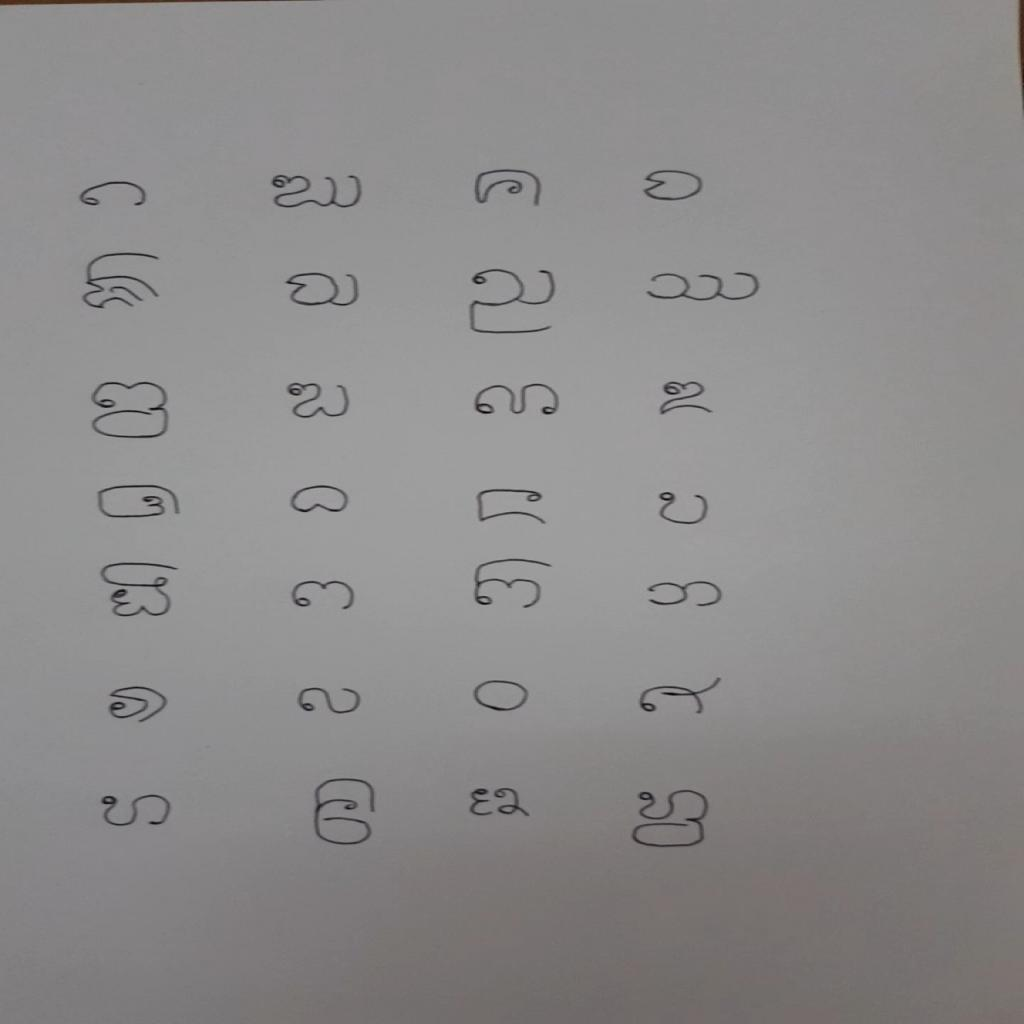LN003: (73, 177, 159, 212)
LN004: (263, 170, 373, 214)
LN005: (467, 164, 552, 211)
LN006: (636, 166, 711, 207)
LN009: (78, 249, 172, 316)
LN010: (277, 268, 369, 312)
LN011: (462, 264, 566, 340)
LN012: (639, 268, 771, 307)
LN015: (85, 378, 180, 444)
LN016: (278, 378, 360, 424)
LN017: (467, 380, 570, 422)
LN018: (652, 376, 720, 422)
LN021: (90, 480, 192, 524)
LN022: (284, 481, 359, 519)
LN023: (469, 484, 558, 531)
LN024: (651, 487, 721, 531)
LN027: (95, 558, 190, 624)
LN028: (283, 577, 366, 617)
LN029: (466, 555, 562, 615)
LN030: (640, 578, 732, 613)
LN033: (98, 682, 178, 730)
LN034: (291, 683, 372, 721)
LN035: (467, 676, 538, 718)
LN036: (632, 674, 732, 722)
LN039: (94, 790, 181, 833)
LN040: (308, 775, 385, 850)
LN041: (456, 782, 543, 824)
LN042: (625, 786, 721, 855)
